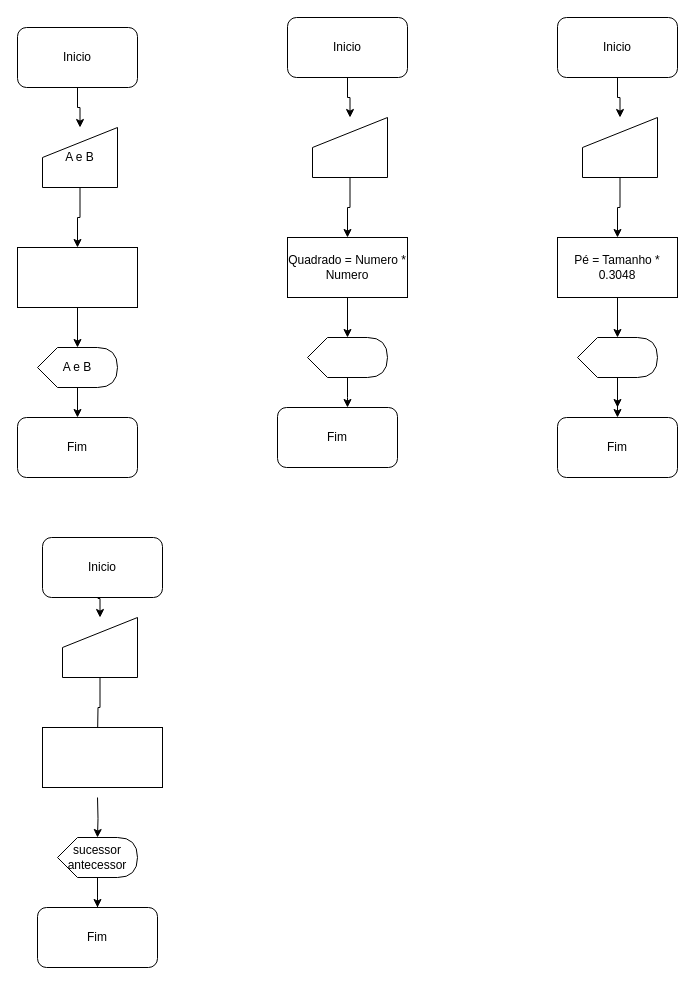
This 695x985 diagram has some shape labels left out. Each missing label, with the box of its shape:
Aux= a A = b B = Aux: (16, 246, 138, 308)
Numero: (312, 116, 388, 178)
pé: (576, 336, 658, 378)
Quadrado: (306, 336, 388, 378)
sucessor = valor + 1 antecessor = valor -1: (42, 726, 162, 788)
tamanho: (582, 116, 658, 178)
valor: (62, 616, 138, 678)
